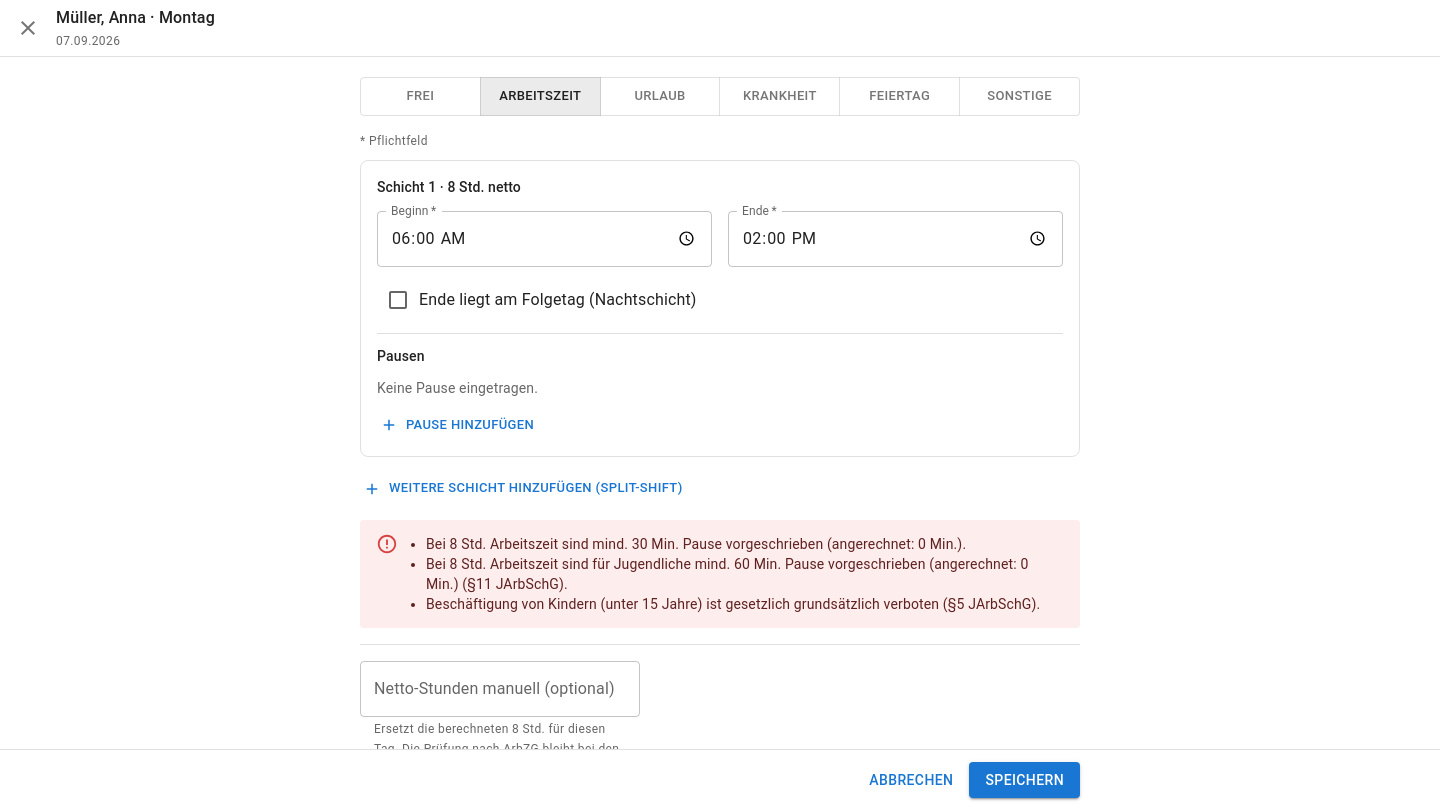
it: DayEditor › asks for confirmation for a child (under 15) even on an otherwise unremarkable shift, per the unconditional §5 JArbSchG ban
Replace the text in the time field labelled "Beginn *" with "08:00" at (544, 238), box [377,210,712,266]
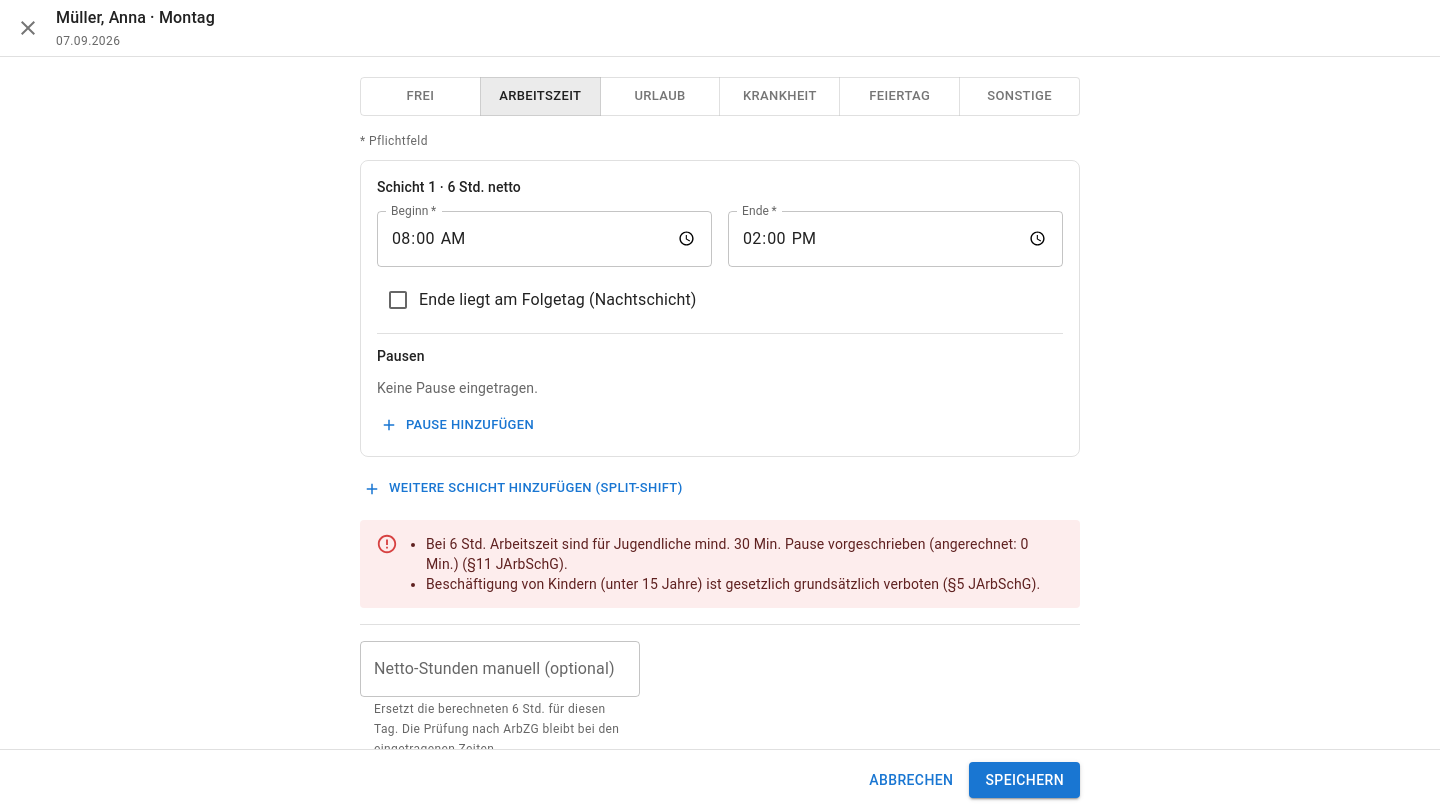
Replace the text in the time field labelled "Ende *" with "10:00" at (896, 238), box [728,210,1063,266]
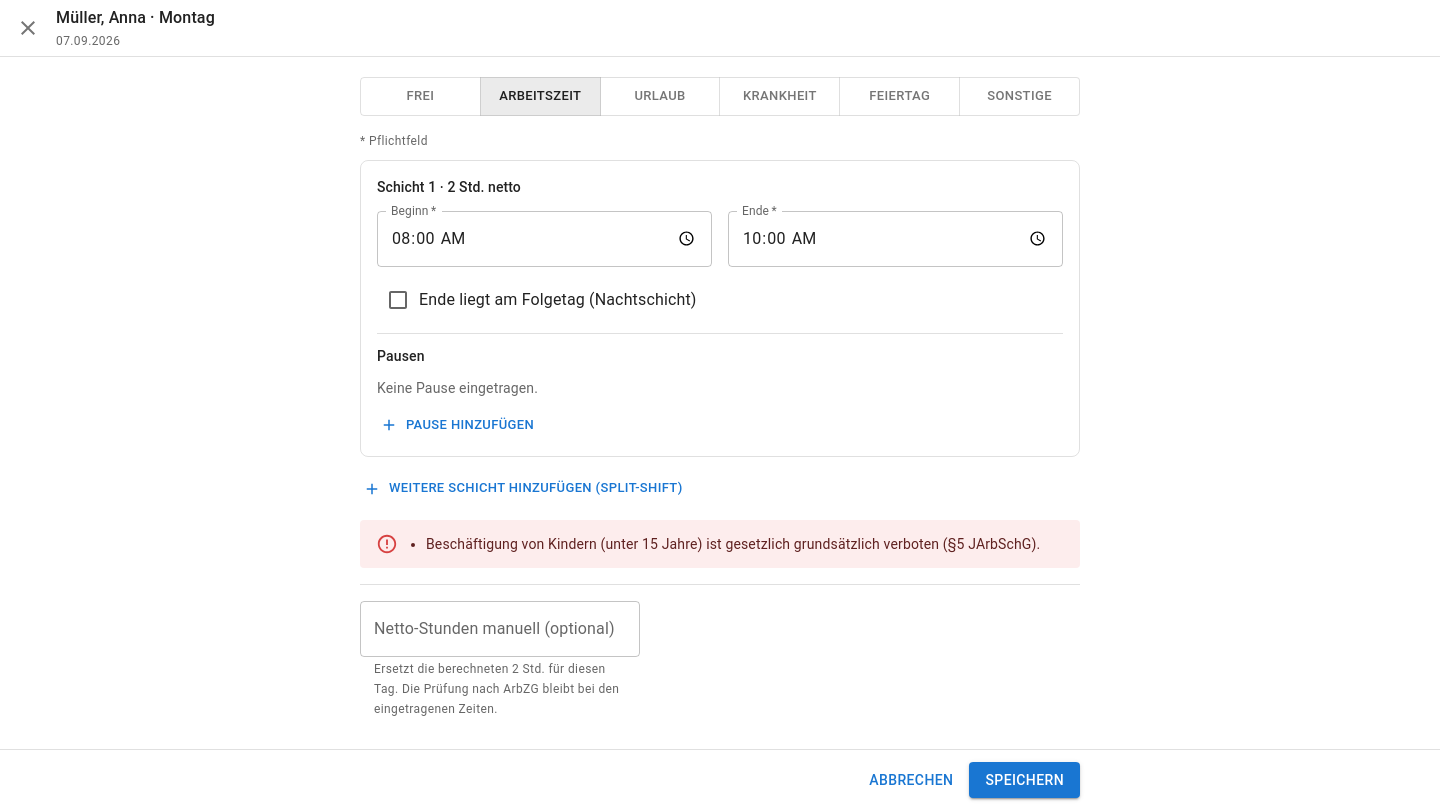
Click the button "Speichern" at (1025, 780), box [969,762,1080,798]
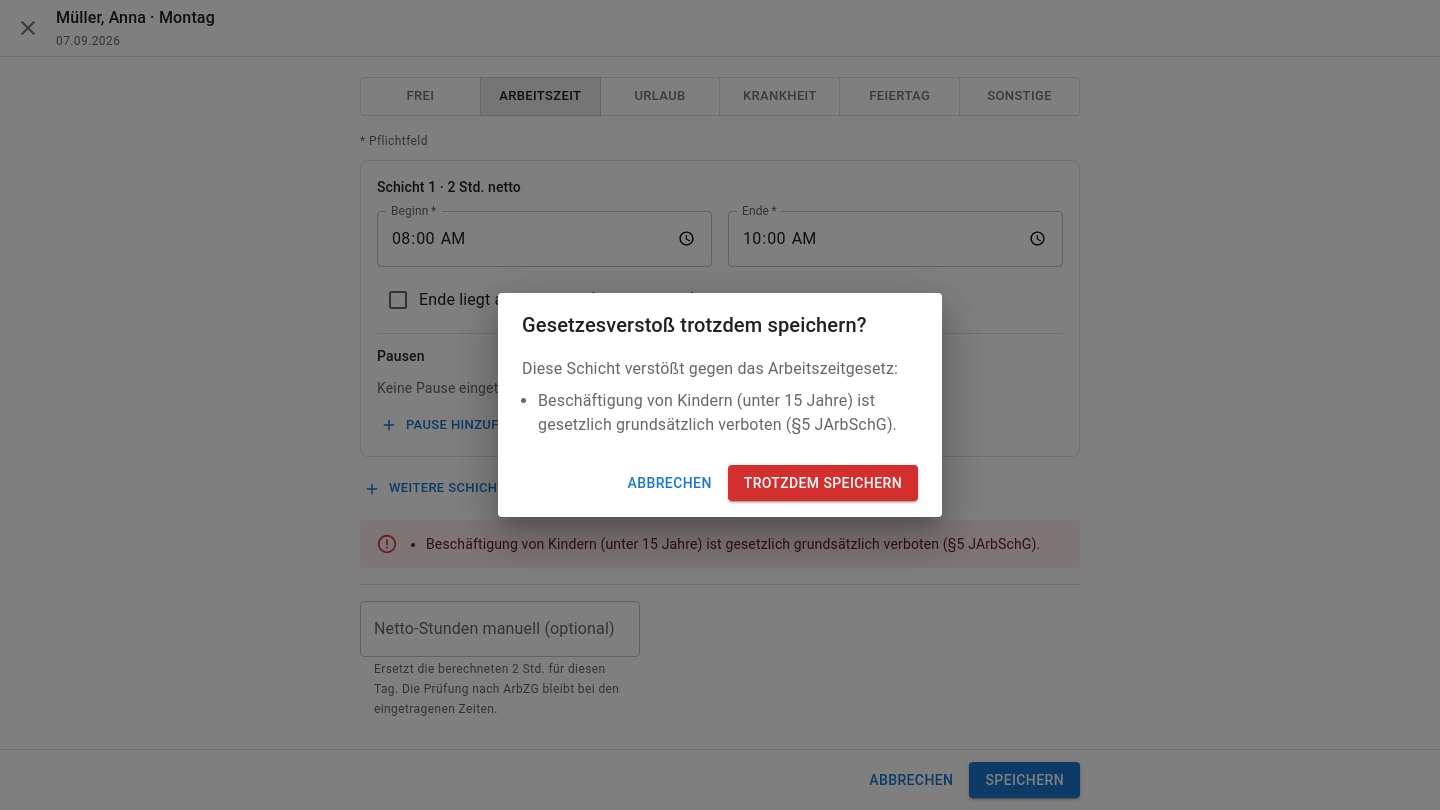
Check: the heading "Gesetzesverstoß trotzdem speichern?" is shown, box [522,313,866,337]
